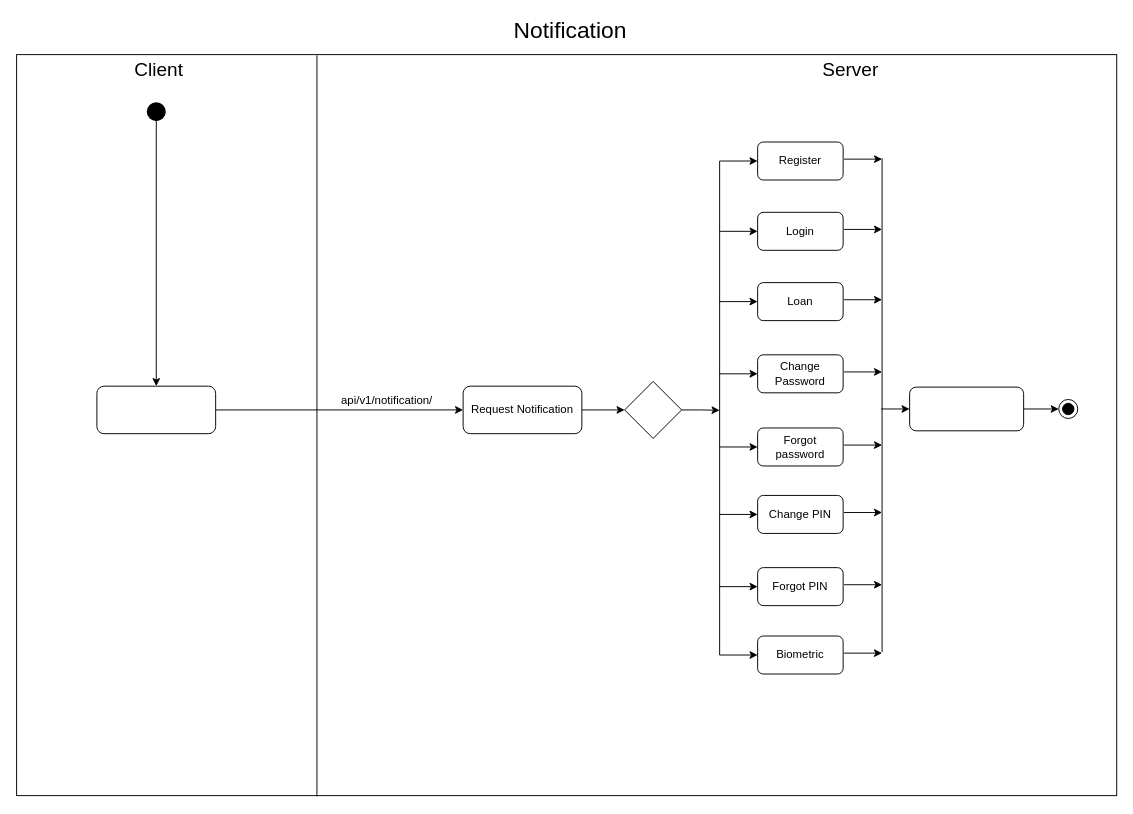
Image size: 1133x814. Some labels were removed from this diagram. Each missing label, with the centre of its shape:
Category: (x=653, y=409)
Sent Email base on Category Template: (x=966, y=408)
User Complete Transaction Flow: (x=156, y=409)
